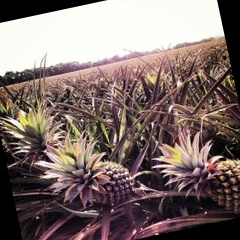Pineapple: (155, 128, 239, 211), (43, 132, 134, 205)
